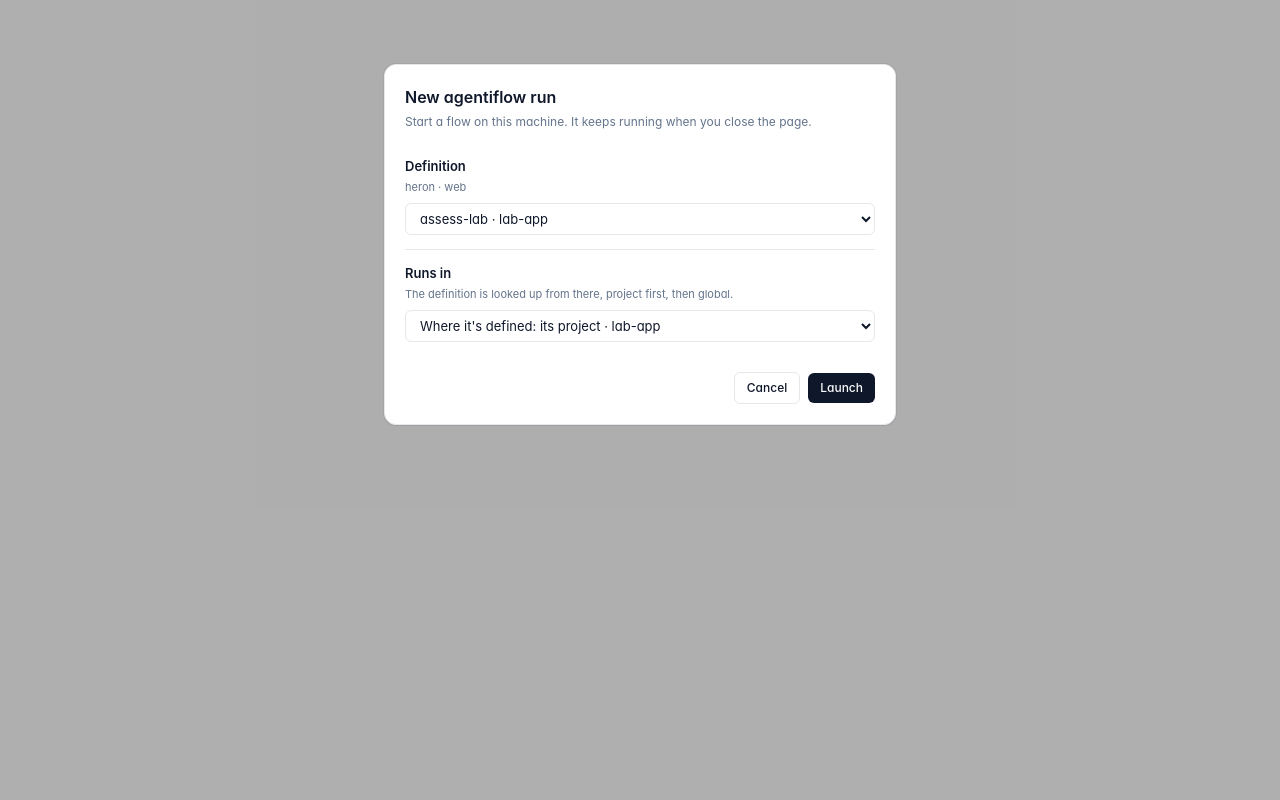
AgentiflowLauncherSheet › shows the server's message inline when the launch is refused
Click the button "Launch". click: (842, 388)
box: top-left (808, 373), bottom-right (875, 403)
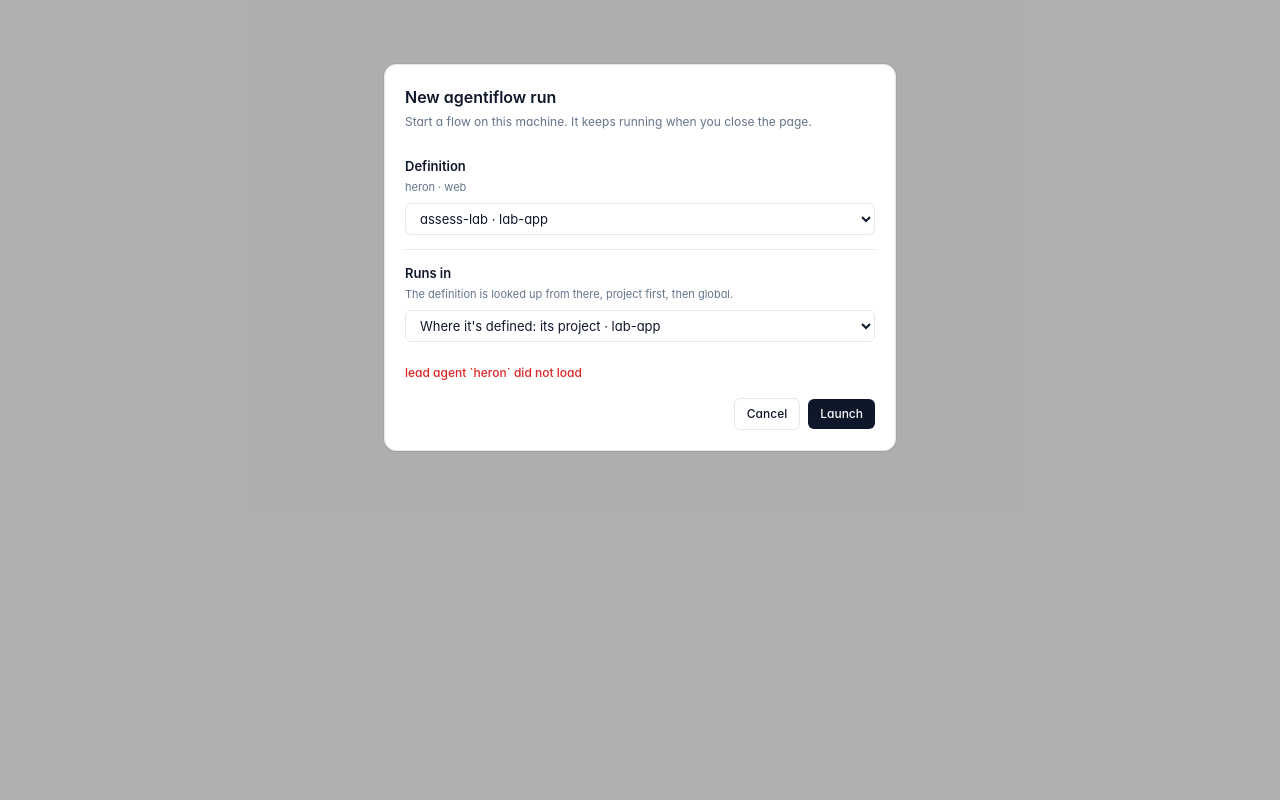
Check: the message reads "lead agent `heron` did not load", box top-left (405, 365), bottom-right (582, 380)
